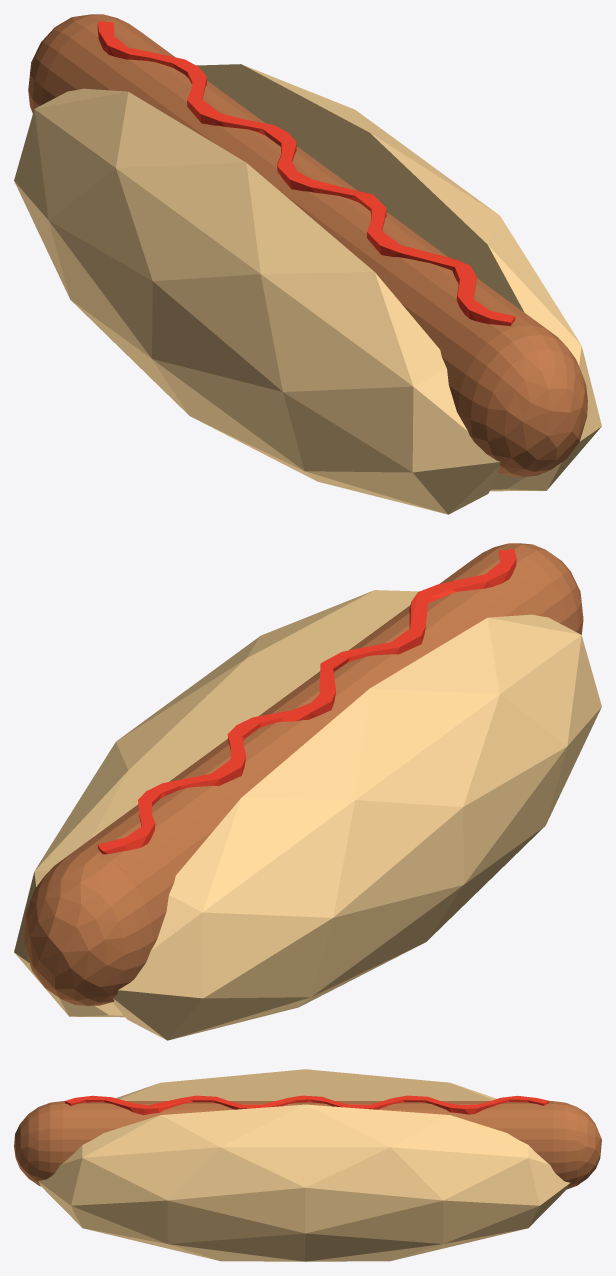
File: Hot Dog 2.glb
3 renders of one model, top to bottom at view 1: azimuth 30°, elevation 25°; view 2: azimuth 150°, elevation 25°; view 3: azimuth 270°, elevation 25°, orthographic. The views are drawn at different scales.
Visible parts, largest first — view 1: Hot Dog 2; view 2: Hot Dog 2; view 3: Hot Dog 2.
Part boxes in pixels (left/top/right/bottom): Hot Dog 2: left=14, top=14, right=601, bottom=514; Hot Dog 2: left=14, top=543, right=601, bottom=1040; Hot Dog 2: left=14, top=1069, right=601, bottom=1261.
Bounding box in the file's own units: 0.4538 × 0.3689 × 1.26.
